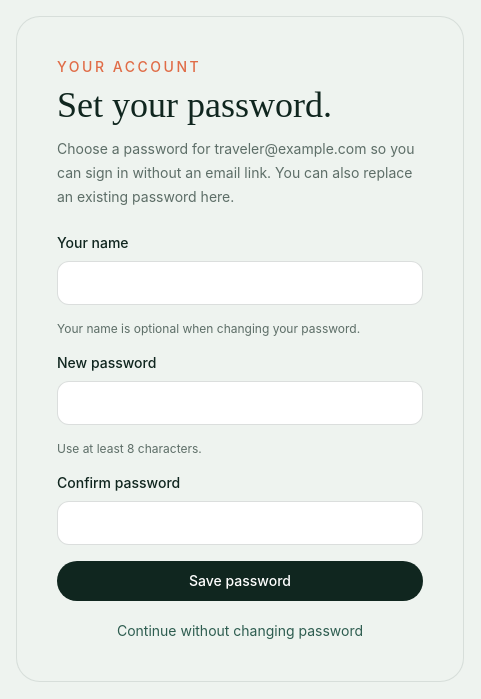
Test case: lets an existing user recover a password without providing a profile name
Type "password123" into the password field labelled "New password". click: [240, 403]
box: [57,381,423,425]
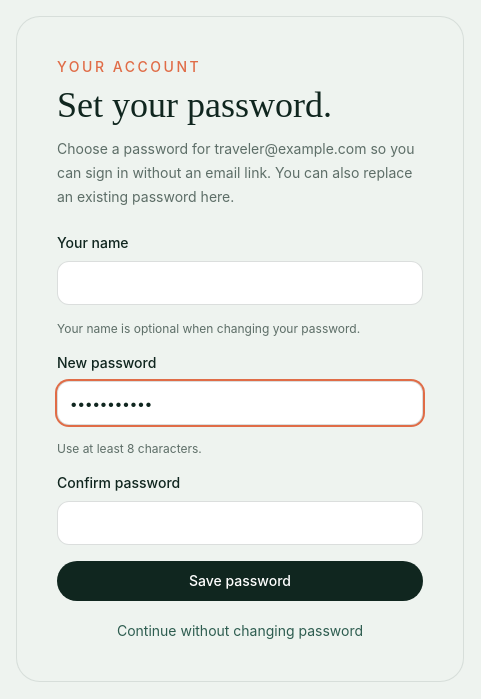
Type "password123" into the password field labelled "Confirm password". click: [240, 523]
box: [57,501,423,545]
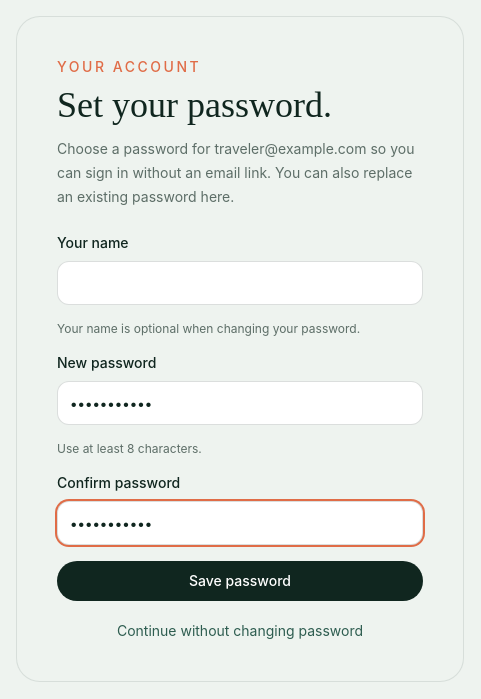
Click the button "Save password". click: [240, 581]
box: [57,561,423,601]
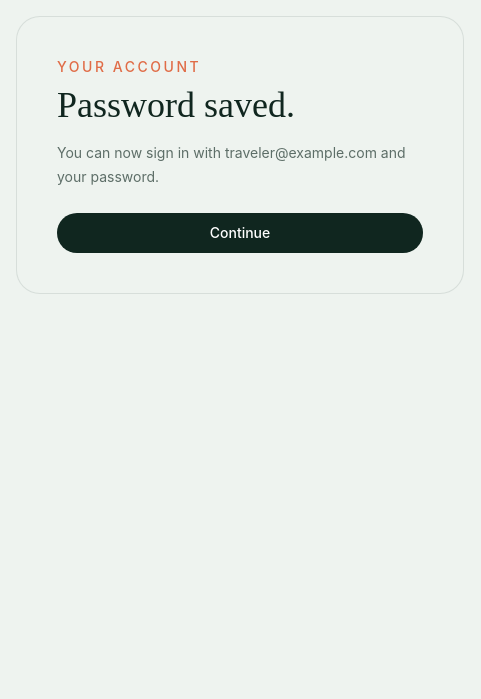
Expected: the heading "Password saved." is shown, [57,85,295,125]
